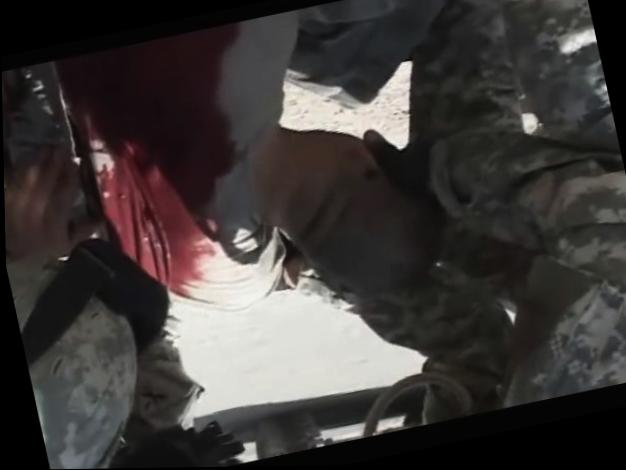Fire: (58, 27, 237, 298)
